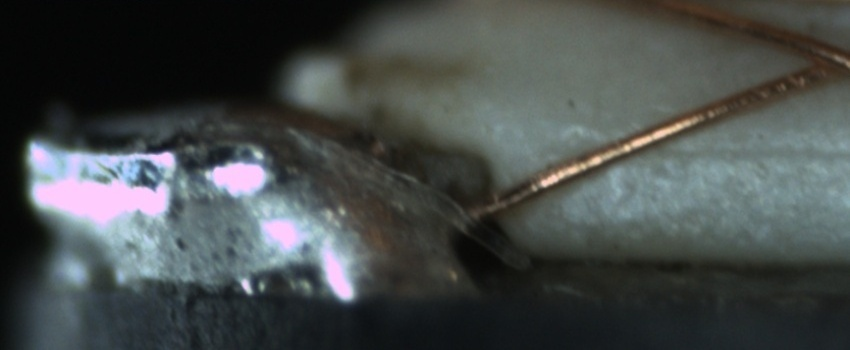CL: (777, 32, 847, 90)
DL: (618, 115, 845, 186)
